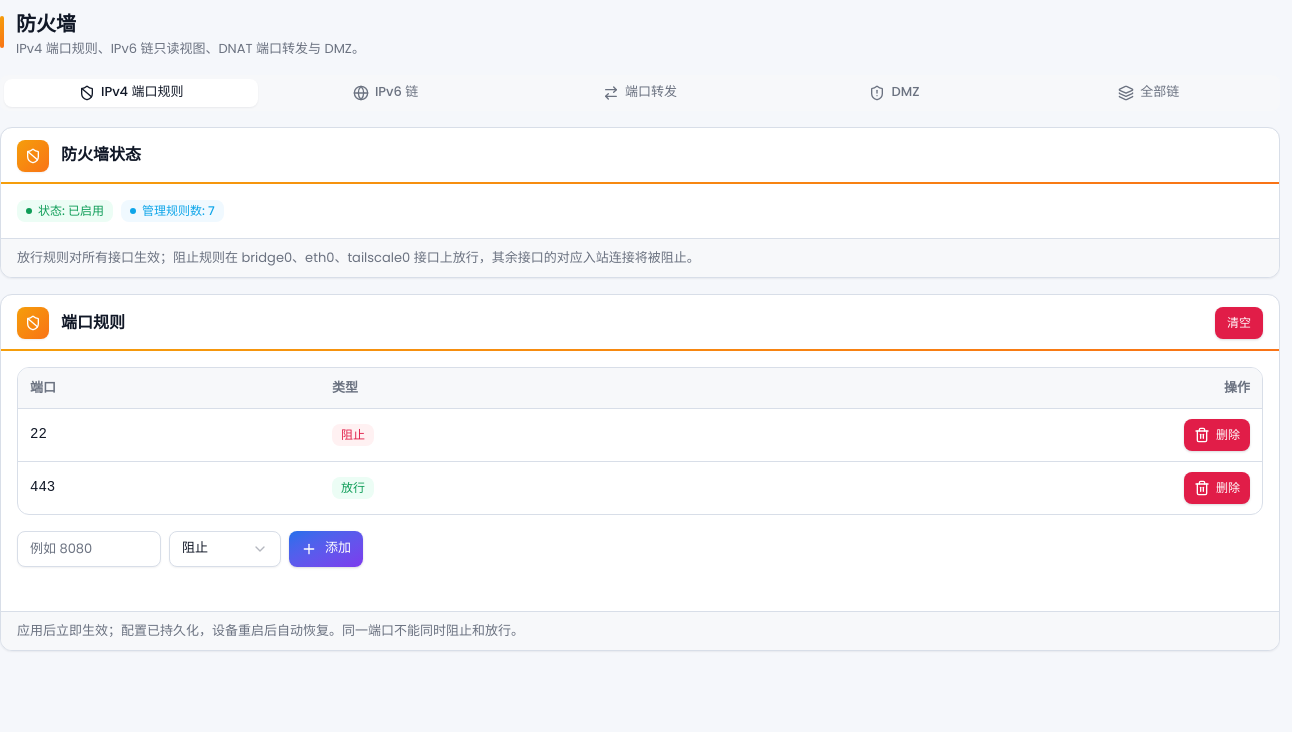
Test: FirewallPage 组件 › Tabs 切换:默认 IPv4 规则;切到 IPv6 拉取 status6 并显示只读说明
This screenshot has width=1292, height=732.
Expected: the heading "防火墙状态" is shown, 61,143 -> 141,168
Expected: the cell "22" is shown, 18,408 -> 320,461
Click the tab "IPv6 链".
click(386, 93)  # box 258,79 -> 513,107
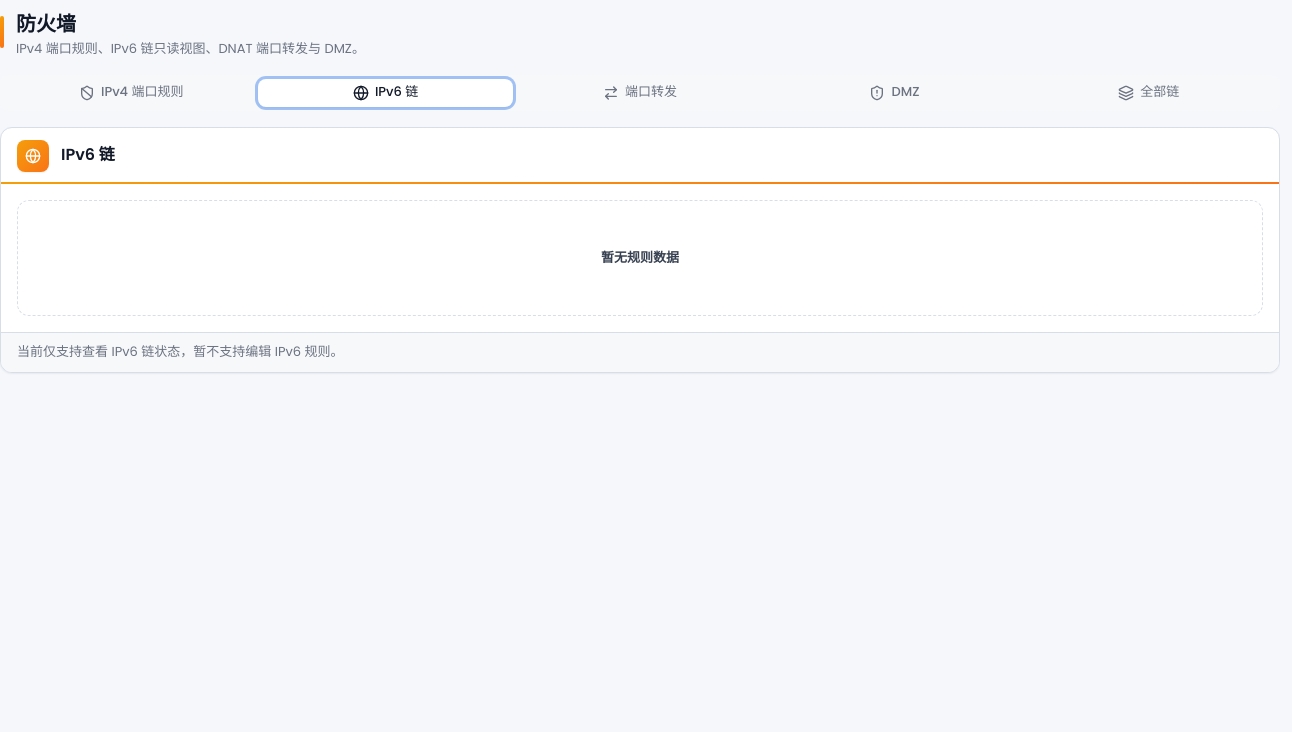
Expected: the text "当前仅支持查看 IPv6 链状态，暂不支持编辑 IPv6 规则。" is shown, 1,332 -> 1279,372
Expected: the text "暂无规则数据" is shown, 601,249 -> 679,267
